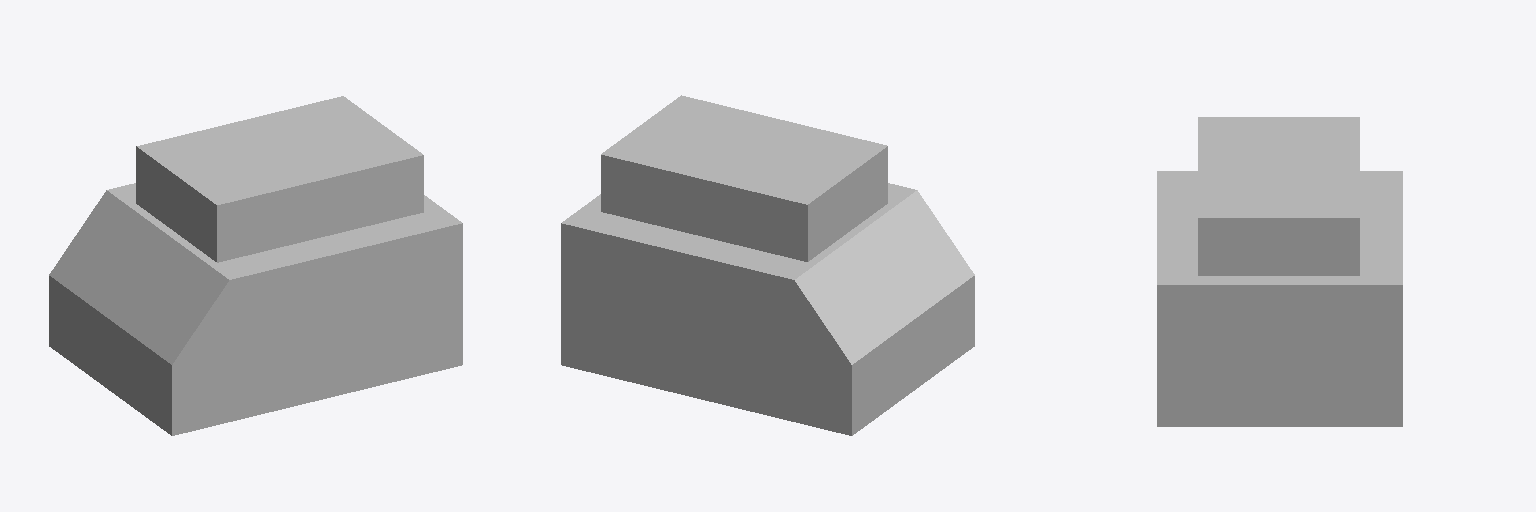
The model's file is BossBody.obj.
3 renders of one model, left to right at view 1: azimuth 30°, elevation 25°; view 2: azimuth 150°, elevation 25°; view 3: azimuth 270°, elevation 25°, orthographic.
Parts seen in each view (by area): view 1: Cube.003; view 2: Cube.003; view 3: Cube.003.
Part boxes in pixels (x1,y1,x2,y2): Cube.003: (49,96,462,435); Cube.003: (561,95,974,435); Cube.003: (1157,117,1402,426).
Bounding box in the file's own units: 10.23 × 6.7 × 7.49.